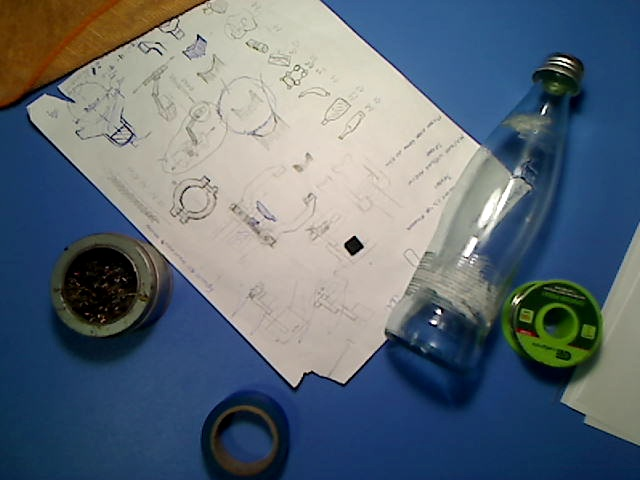bottle: (382, 51, 587, 378)
